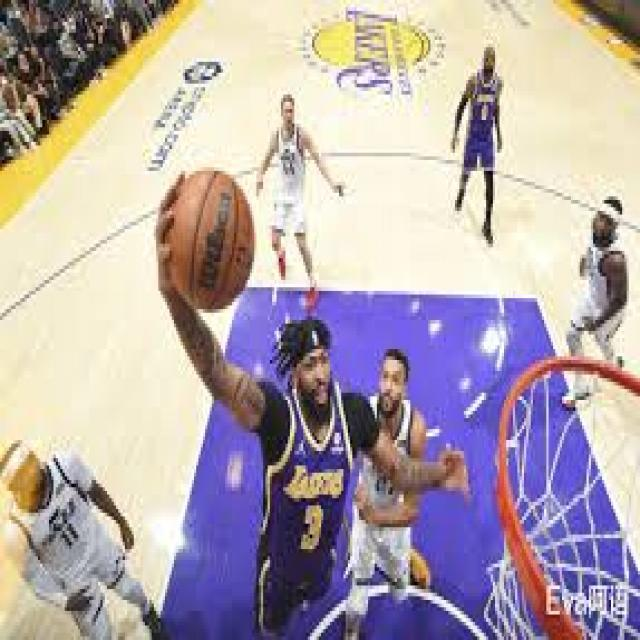rim: (172, 178, 252, 312)
